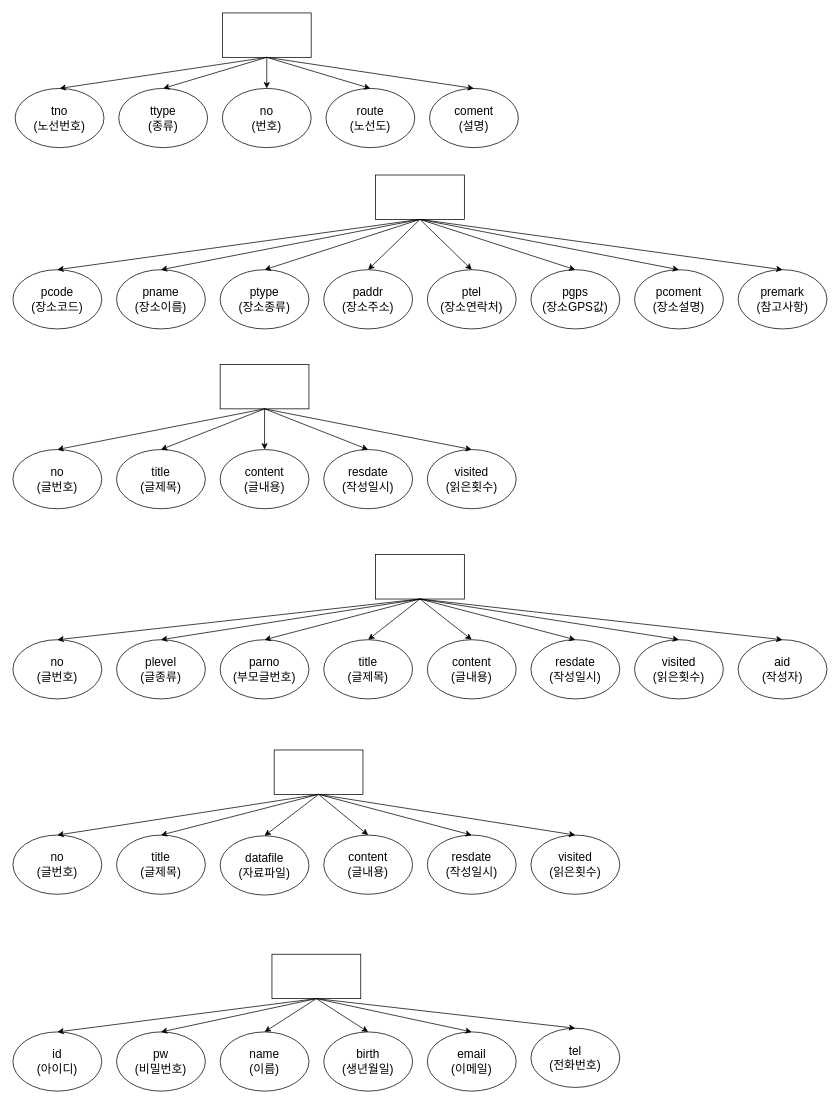
Some shapes in this 840 by 1104 pixel diagram are drawn without their labels. Here are the shapes that lost their labels. From the top down, the centre of each, then its label:
At point 266,34: "traffic (교통)".
At point 419,196: "guide (안내사항)".
At point 264,386: "notice (공지사항)".
At point 419,576: "qna (묻고 답하기)".
At point 318,771: "data (자료실)".
At point 316,976: "member (회원)".
